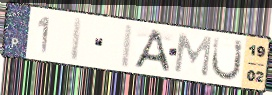1: (36, 16, 51, 55)
A: (131, 28, 172, 74)
I: (68, 15, 86, 63), (118, 22, 136, 70)
M: (172, 32, 214, 79)
U: (209, 35, 245, 83)
